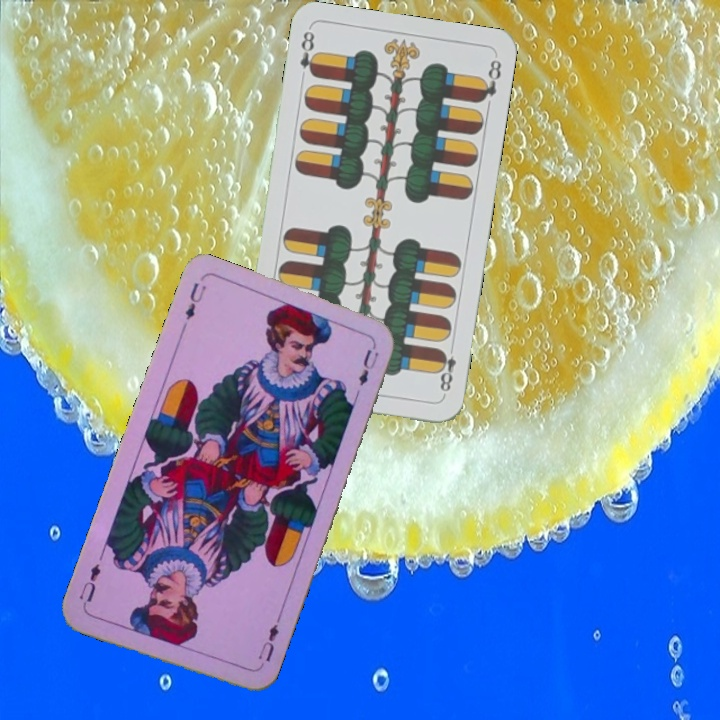E8: (433, 340, 459, 399), (296, 27, 321, 80)
EU: (254, 614, 283, 672), (181, 278, 209, 322)
